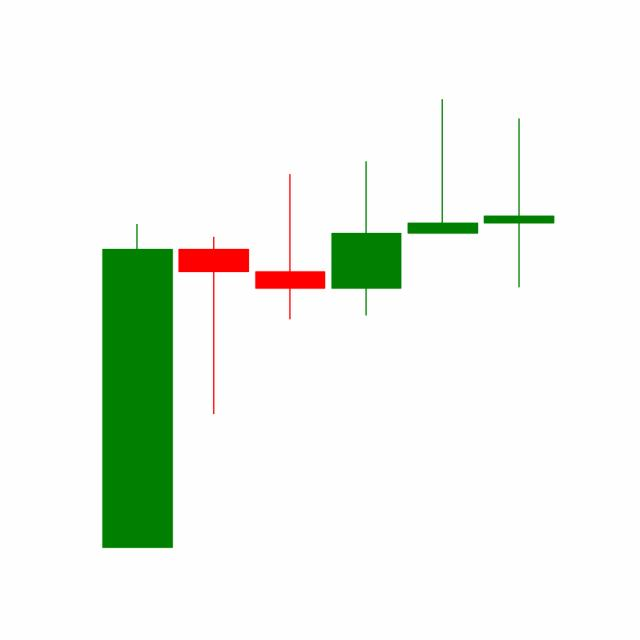Gravestone Doji: (403, 97, 481, 234)
